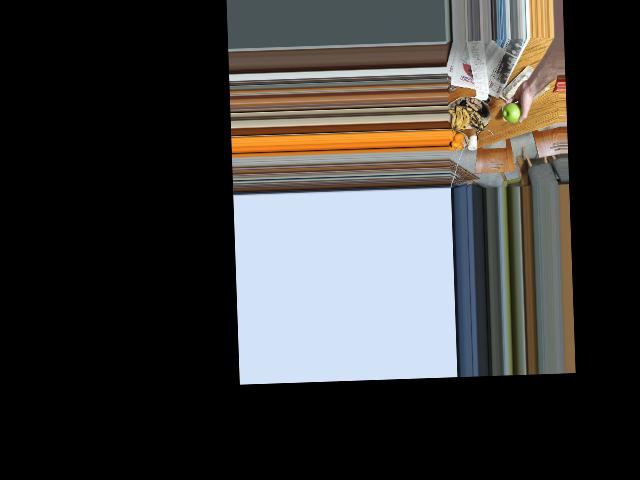apple: (503, 100, 525, 124)
